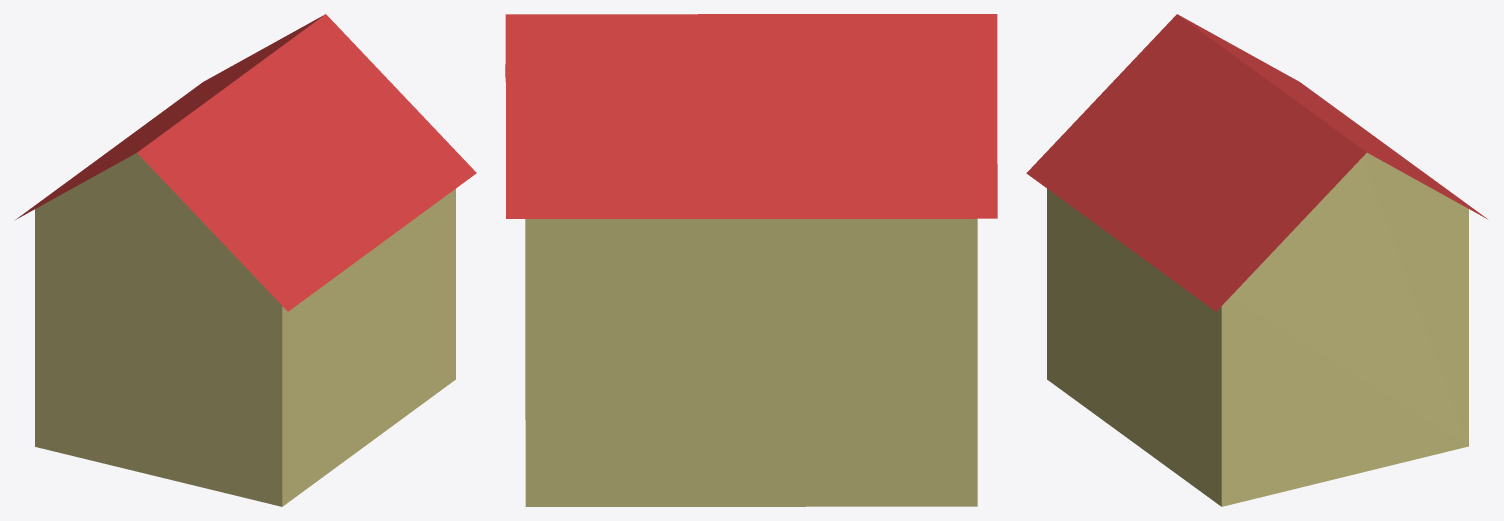
3 renders of one model, left to right at view 1: azimuth 30°, elevation 25°; view 2: azimuth 150°, elevation 25°; view 3: azimuth 270°, elevation 25°, orthographic. The views are drawn at different scales.
Bounding box in the file's own units: 23.89 × 22.77 × 17.69.
